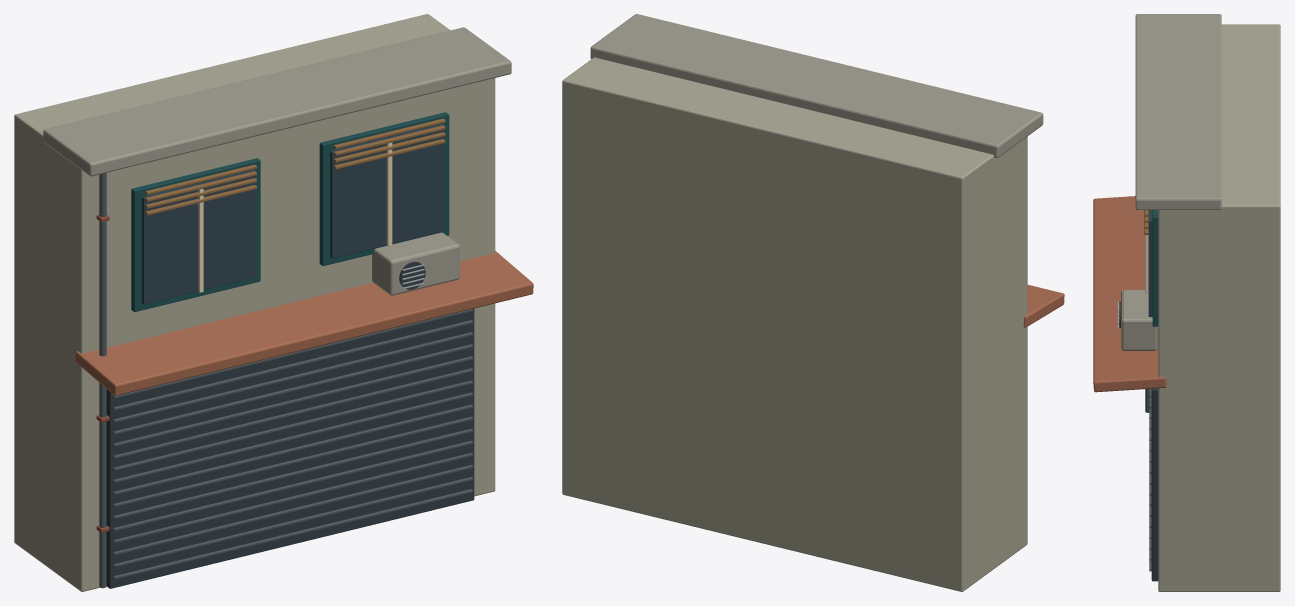
File: RukoPasar.fbx
3 renders of one model, left to right at view 1: azimuth 30°, elevation 25°; view 2: azimuth 150°, elevation 25°; view 3: azimuth 270°, elevation 25°, orthographic. The views are drawn at different scales.
Visible parts, largest first — view 1: RukoPasar; view 2: RukoPasar; view 3: RukoPasar.
Boxes of the visible parts, left/top/right/bottom form: RukoPasar: left=14, top=14, right=533, bottom=591; RukoPasar: left=562, top=14, right=1064, bottom=591; RukoPasar: left=1093, top=14, right=1280, bottom=591.
Size of the model in its own units: 560 by 556 by 239.
